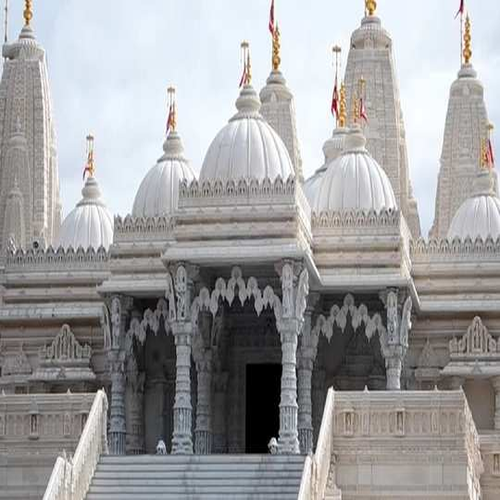Temple: (9, 3, 500, 460)
